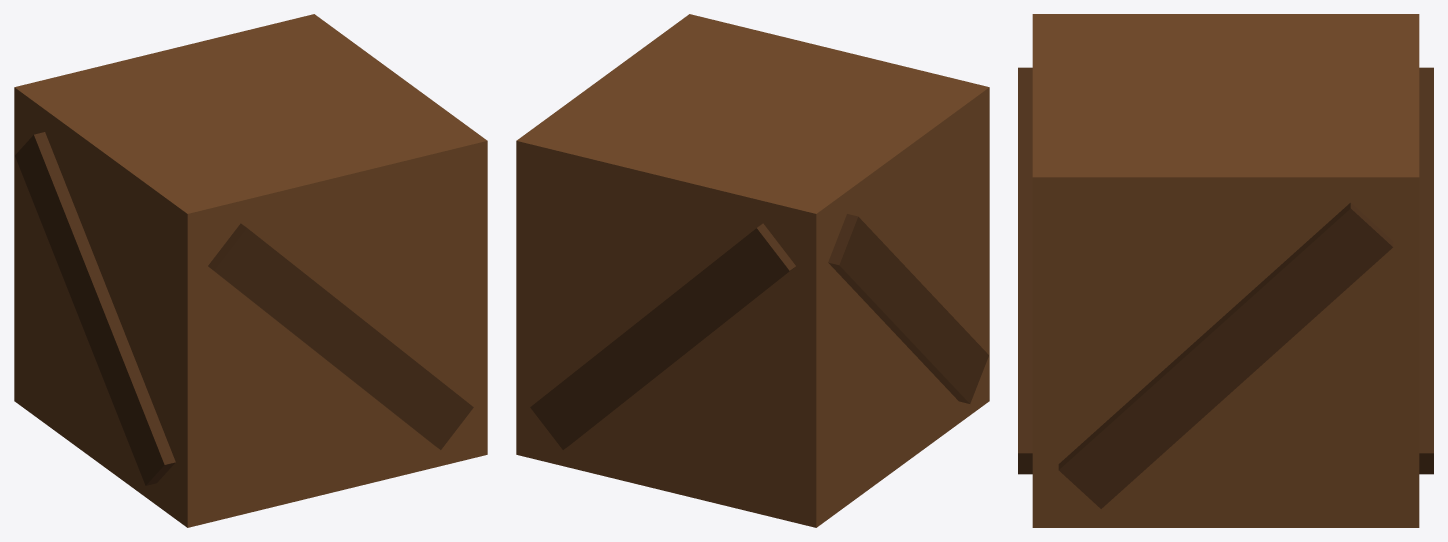
The model's file is crate.glb.
The picture shows the model from 3 angles, left to right: view 1: azimuth 30°, elevation 25°; view 2: azimuth 150°, elevation 25°; view 3: azimuth 270°, elevation 25°; orthographic projection. The views are drawn at different scales.
Visible parts, largest first — view 1: crate; view 2: crate; view 3: crate.
Part boxes in pixels (<box>): crate: <box>14,14,487,527</box>; crate: <box>516,14,989,527</box>; crate: <box>1018,14,1433,527</box>.
Size of the model in its own units: 0.172 by 0.16 by 0.172.
